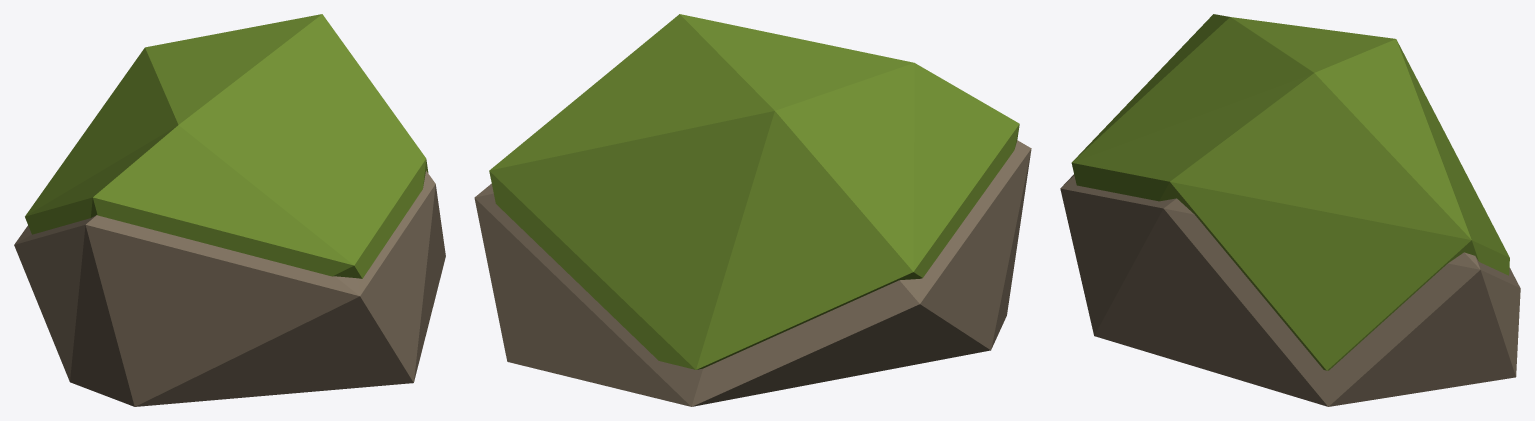
File: Stone_3_moss_brown_mat.fbx
3 views of the same model, side by side, from view 1: azimuth 30°, elevation 25°; view 2: azimuth 150°, elevation 25°; view 3: azimuth 270°, elevation 25° (orthographic). The views are drawn at different scales.
Parts seen in each view (by area): view 1: Stone_3_moss_brown_mat; view 2: Stone_3_moss_brown_mat; view 3: Stone_3_moss_brown_mat.
Part boxes in pixels (left/top/right/bottom): Stone_3_moss_brown_mat: left=14, top=14, right=445, bottom=406; Stone_3_moss_brown_mat: left=474, top=14, right=1031, bottom=406; Stone_3_moss_brown_mat: left=1060, top=14, right=1520, bottom=406.
Size of the model in its own units: 23.08 by 14.76 by 22.42.
